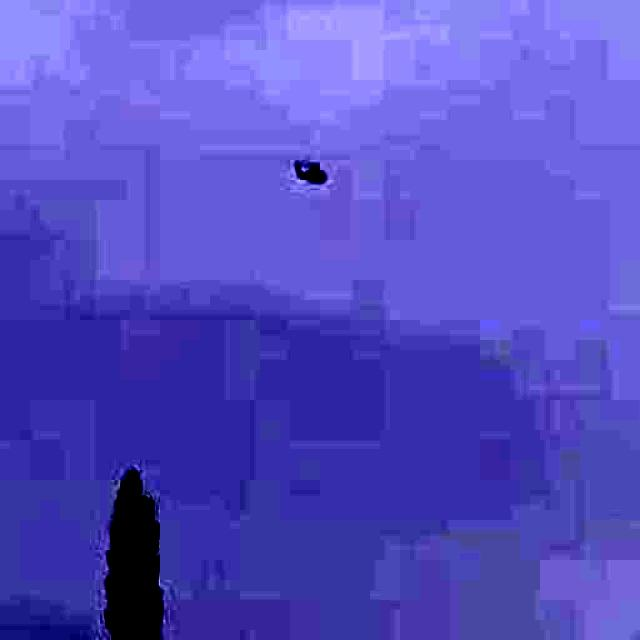drone: (280, 145, 342, 192)
